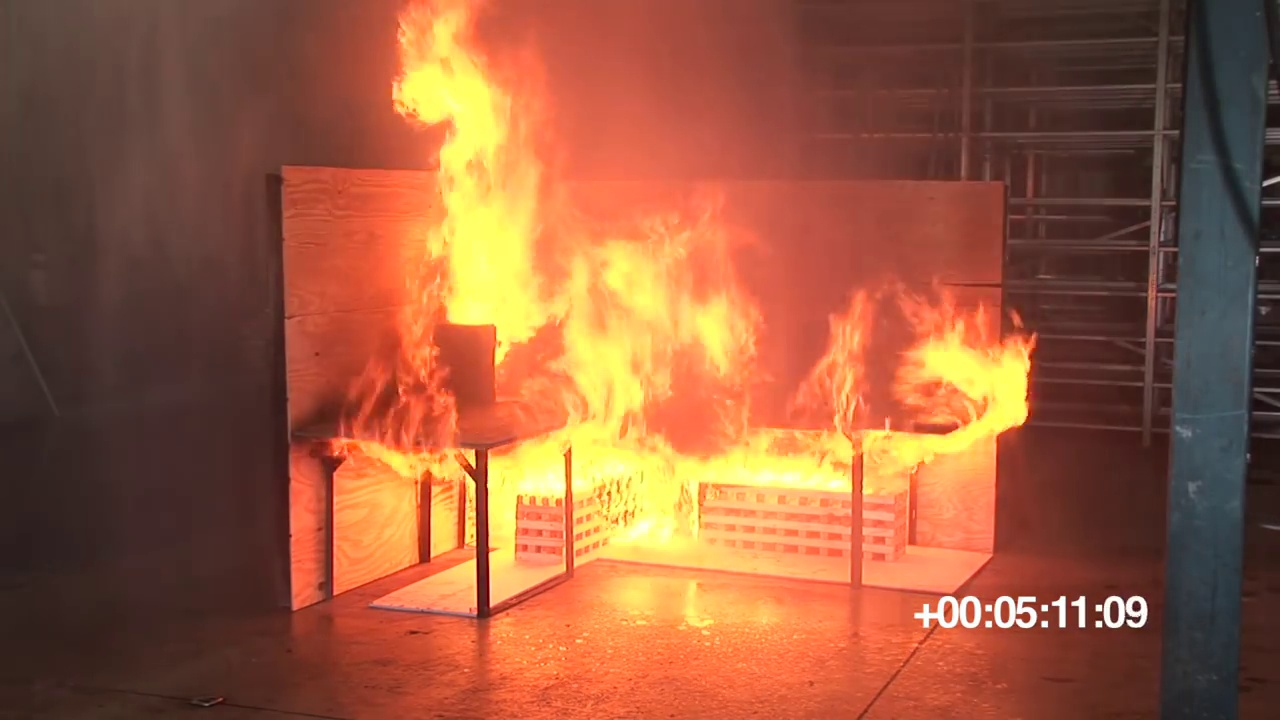fire: (390, 1, 549, 339), (490, 434, 891, 560), (556, 215, 760, 434), (821, 274, 1034, 451)
